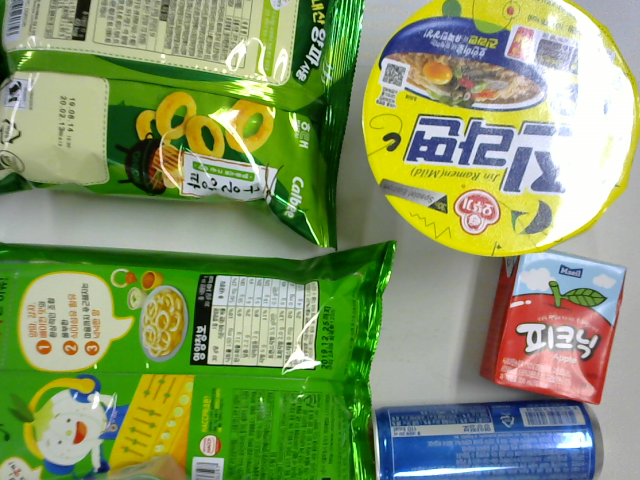Grilled_Onions: (1, 1, 368, 250)
Jinlamyeon_Mild_Taste_Large_Cup: (361, 1, 639, 259)
Oninon_Ring: (1, 239, 397, 480)
Pepsi_Cola_Can_250ml: (370, 397, 604, 480)
Picnic_Apple: (480, 251, 628, 405)
